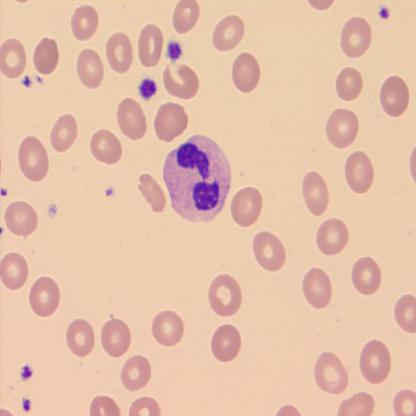Segmented neutrophil: (161, 132, 232, 225)
